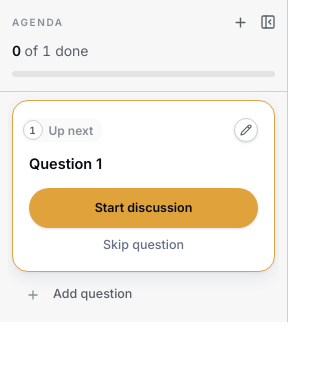
it: AgendaPanel leader controls (F25/F26) › surfaces the server’s reason for refusing a transition
The image size is (320, 372).
Click the button "Start discussion": (144, 208) x1=29 y1=188 x2=258 y2=228
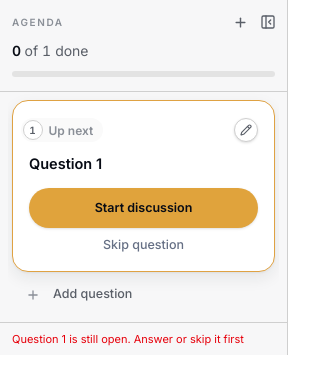
Expected: the text "Question 1 is still open. Answer or skip it first" is shown, x1=0 y1=322 x2=287 y2=355
